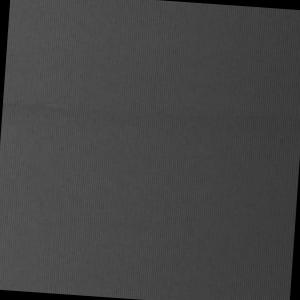Wrinkle: (2, 75, 300, 148)
